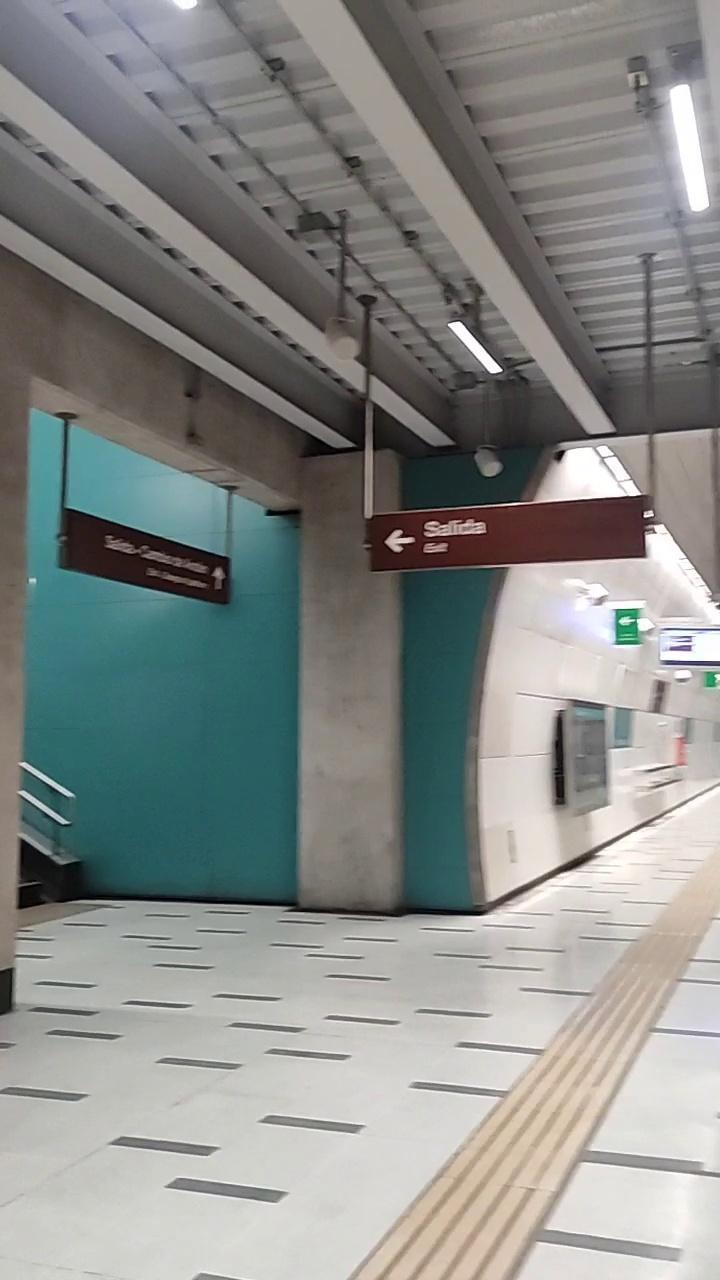left arrow: (376, 518, 426, 566)
up arrow: (208, 562, 228, 594)
